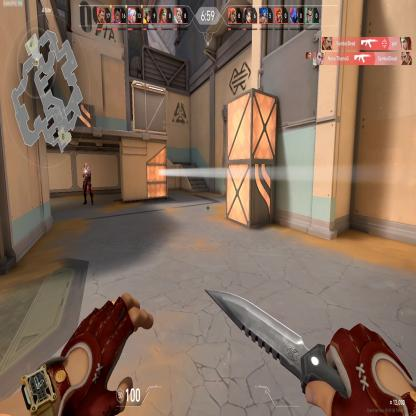enemy: (81, 160, 94, 206)
